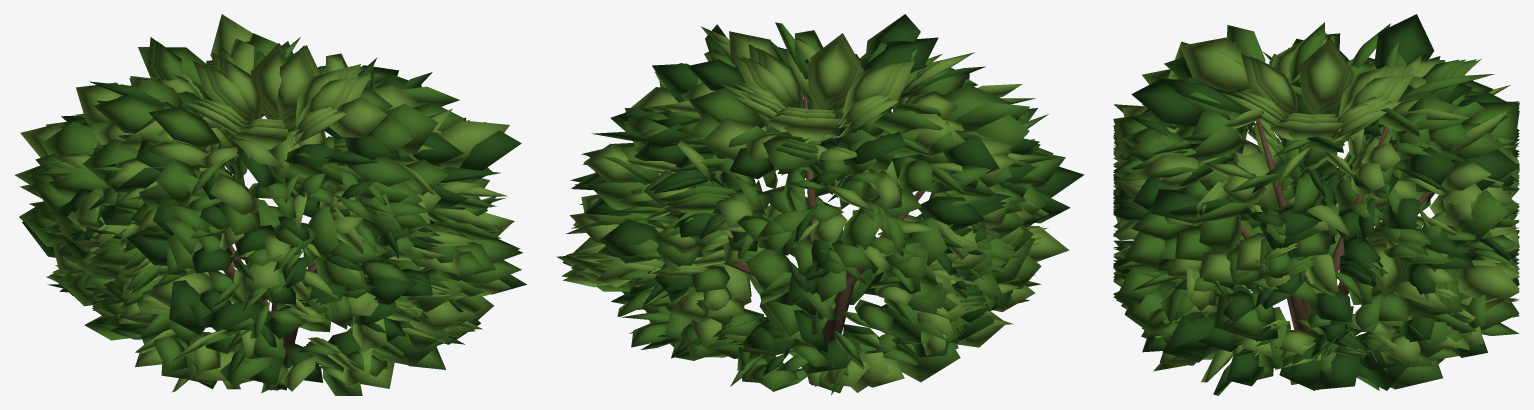
The model's file is MV_Shrub_Round_Medium.fbx.
3 views of the same model, side by side, from view 1: azimuth 30°, elevation 25°; view 2: azimuth 150°, elevation 25°; view 3: azimuth 270°, elevation 25° (orthographic).
Visible parts, largest first — view 1: LOD0_Mesh, LOD1_Mesh, LOD2_Mesh; view 2: LOD0_Mesh, LOD1_Mesh, LOD2_Mesh; view 3: LOD0_Mesh, LOD2_Mesh, LOD1_Mesh.
Part boxes in pixels (x1=…): LOD0_Mesh: x1=15, y1=37, x2=521, y2=395; LOD1_Mesh: x1=19, y1=14, x2=520, y2=393; LOD2_Mesh: x1=29, y1=37, x2=526, y2=389; LOD0_Mesh: x1=563, y1=30, x2=1065, y2=393; LOD1_Mesh: x1=556, y1=22, x2=1069, y2=386; LOD2_Mesh: x1=561, y1=14, x2=1084, y2=395; LOD0_Mesh: x1=1113, y1=22, x2=1519, y2=395; LOD2_Mesh: x1=1113, y1=14, x2=1519, y2=390; LOD1_Mesh: x1=1113, y1=23, x2=1519, y2=390.
Size of the model in its own units: 1.1 by 0.9 by 1.1.
